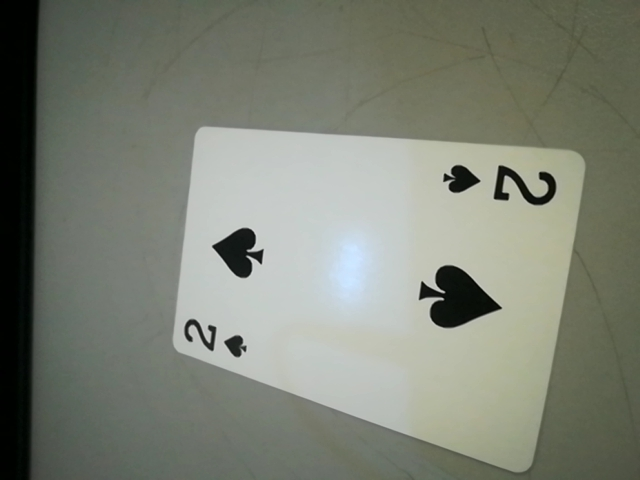ht 2: (426, 155, 574, 214)
